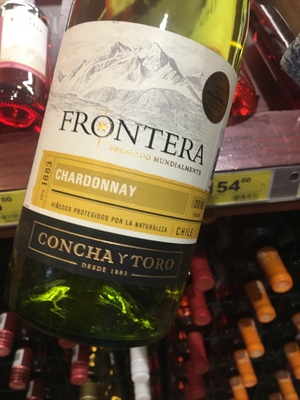frontera chardonnay: (11, 1, 242, 344)
